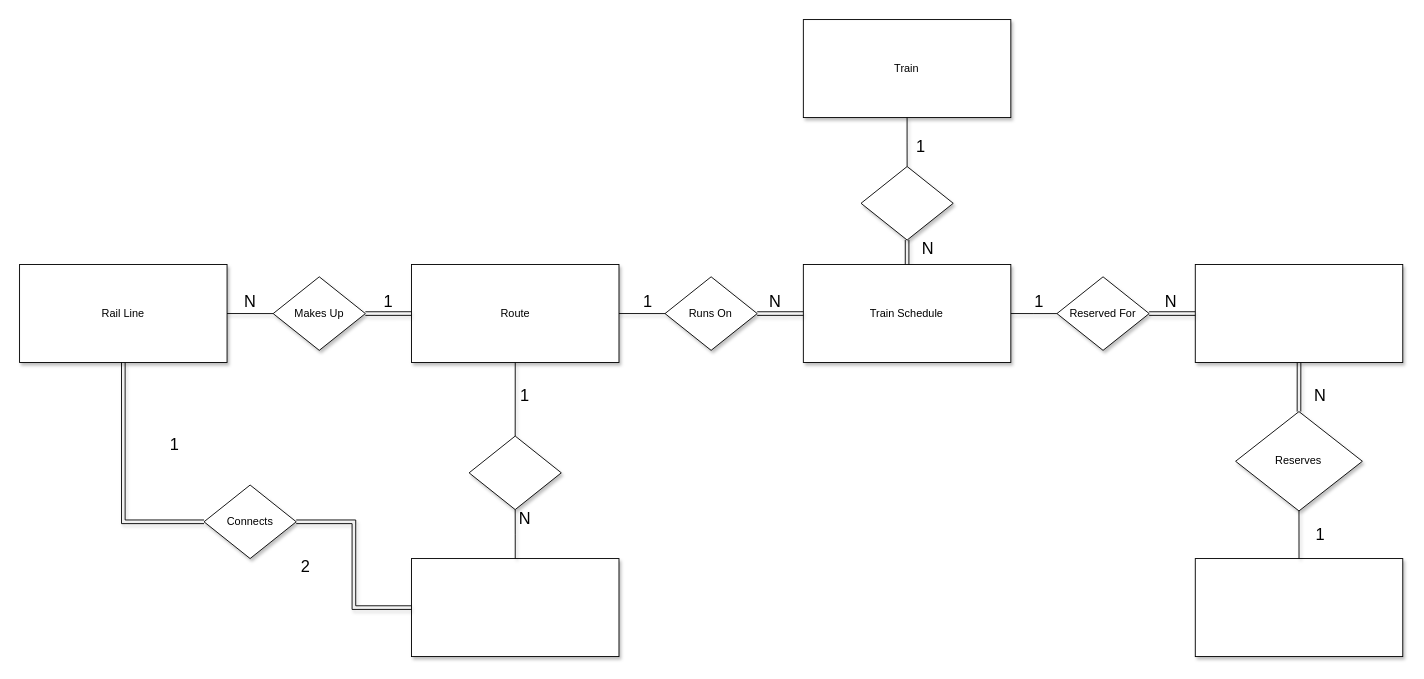
Image size: 1424x679. Some labels were removed from this diagram. The shapes that lost their labels are listed below. From the top down, each one's centre as x and y in pixels, then its label:
At (x=907, y=204): "Schedules".
At (x=1299, y=314): "Reservation".
At (x=516, y=474): "Stops At".
At (x=515, y=608): "Station".
At (x=1299, y=608): "Passenger".
